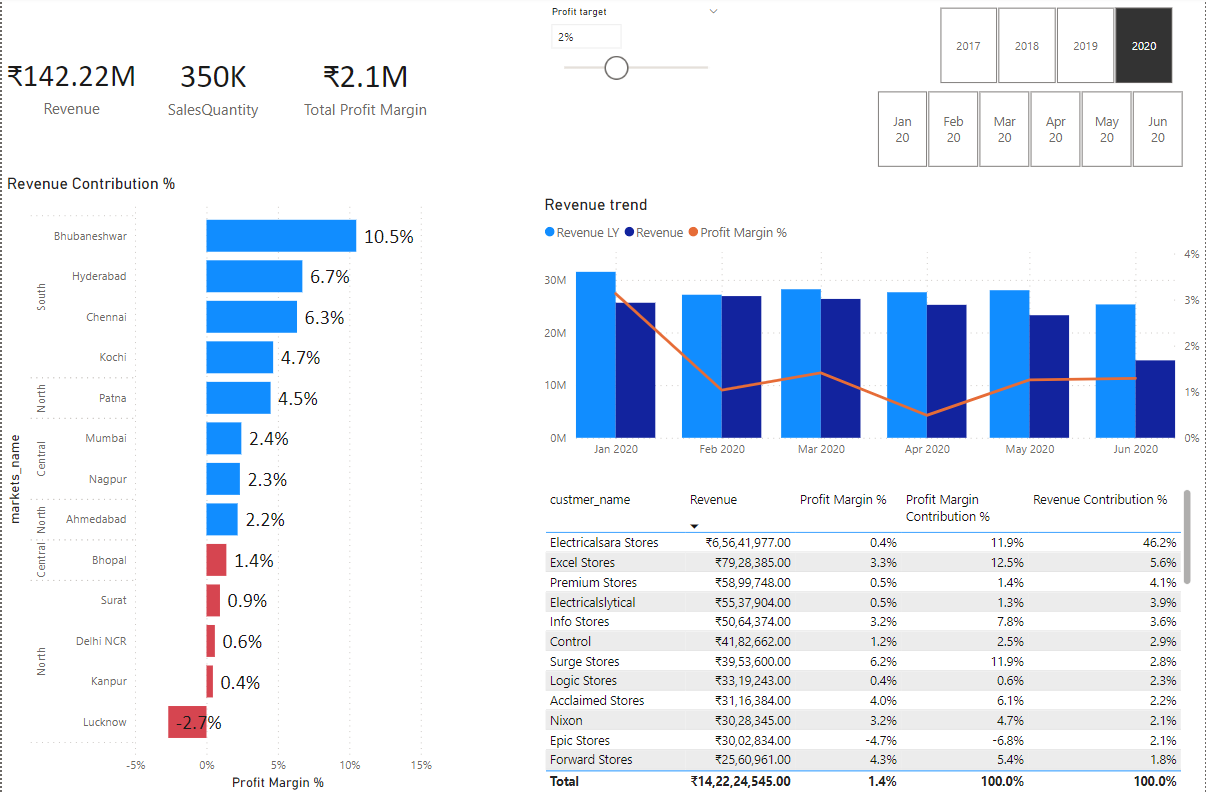

What the dashboard file says about the page in this screenshot:
{"tool":"powerbi","page":{"name":"Performance Insights","canvas":[1280,850],"ordinal":2},"visuals":[{"type":"card","fields":{"Values":["BaseMeasures.Revenue"]},"box":[0,0,148.6,188.6],"z":0},{"type":"card","fields":{"Values":["BaseMeasures.SalesQuantity"]},"box":[148.6,0,151.4,188.6],"z":1000},{"type":"slicer","fields":{"Values":["sales date.year"]},"box":[972.9,5.7,297.1,94.3],"z":2000},{"type":"slicer","fields":{"Values":["sales date.cy_date"]},"box":[905.7,94.3,374.3,94.3],"z":3000},{"type":"tableEx","fields":{"Values":["sales customers.custmer_name","BaseMeasures.Revenue","BaseMeasures.Profit Margin %","BaseMeasures.Profit Margin Contribution %","BaseMeasures.Revenue Contribution %"]},"box":[571.4,520,698.6,330],"z":4000},{"type":"lineClusteredColumnComboChart","title":"Revenue trend","fields":{"Category":["sales date.cy_date"],"Y":["BaseMeasures.Revenue LY","BaseMeasures.Revenue"],"Y2":["BaseMeasures.Profit Margin %"]},"box":[571.4,211.4,708.6,288.6],"z":5000},{"type":"card","fields":{"Values":["BaseMeasures.Total Profit Margin"]},"box":[311.4,0,151.4,188.6],"z":6000},{"type":"barChart","title":"Revenue Contribution %","fields":{"Y":["BaseMeasures.Profit Margin %"],"Category":["sales markets.zone","sales markets.markets_name","sales customers.custmer_name"]},"box":[0,188.6,462.9,661.4],"z":7000},{"type":"slicer","fields":{"Values":["Profit target.Profit target"]},"box":[571.4,5.7,202.9,118.6],"z":8000}]}

Visuals, with their boxes in screenshot pixels (x1, y1, x2, y2), scaled from the page's 1280x850 canvas onto the 1206x793 screenshot:
card - BaseMeasures.Revenue: (left=0, top=0, right=140, bottom=176)
card - BaseMeasures.SalesQuantity: (left=140, top=0, right=283, bottom=176)
slicer - sales date.year: (left=917, top=5, right=1197, bottom=93)
slicer - sales date.cy_date: (left=853, top=88, right=1205, bottom=176)
tableEx - sales customers.custmer_name x BaseMeasures.Revenue: (left=538, top=485, right=1197, bottom=792)
"Revenue trend" lineClusteredColumnComboChart: (left=538, top=197, right=1205, bottom=466)
card - BaseMeasures.Total Profit Margin: (left=293, top=0, right=436, bottom=176)
"Revenue Contribution %" barChart: (left=0, top=176, right=436, bottom=792)
slicer - Profit target.Profit target: (left=538, top=5, right=730, bottom=116)
